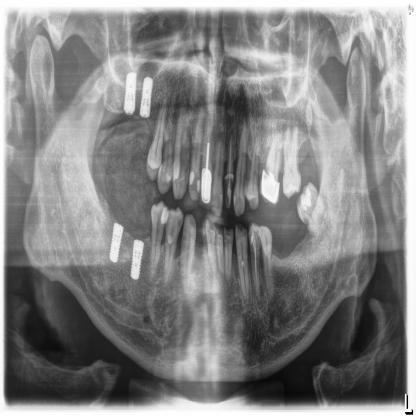ITI: (108, 218, 122, 264), (130, 238, 144, 280), (124, 70, 136, 114), (140, 76, 152, 118)
